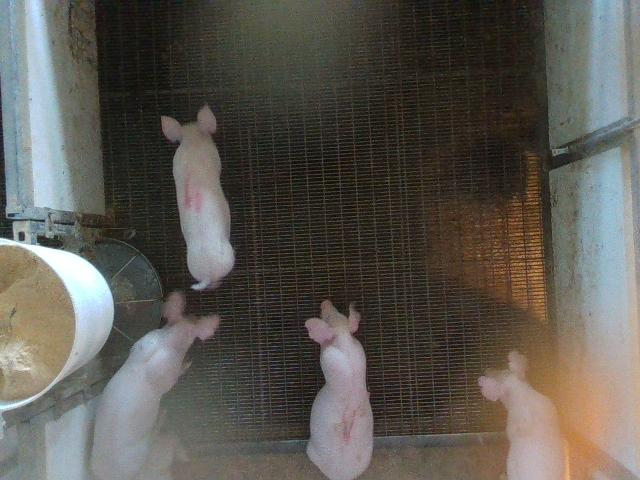pig-4: (161, 105, 235, 290)
